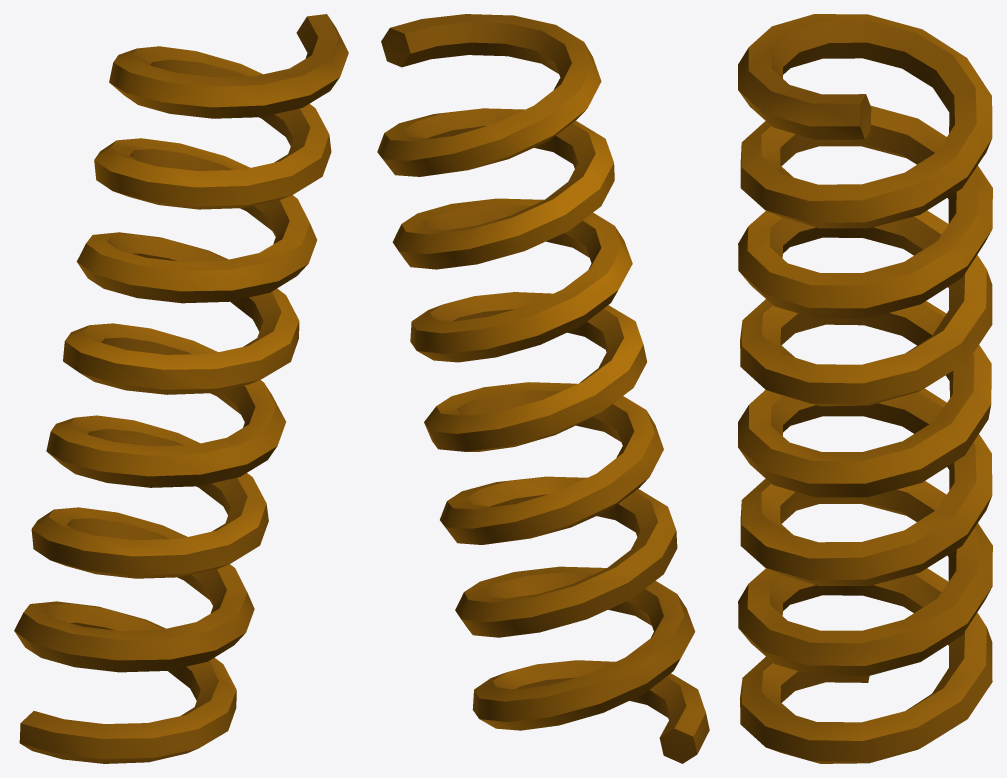
The model's file is bike_corsa600_spring.glb.
The picture shows the model from 3 angles, left to right: view 1: azimuth 30°, elevation 25°; view 2: azimuth 150°, elevation 25°; view 3: azimuth 270°, elevation 25°; orthographic projection. The views are drawn at different scales.
Visible parts, largest first — view 1: sbc_shk_spring; view 2: sbc_shk_spring; view 3: sbc_shk_spring.
Boxes of the visible parts, bbox=[...] form: sbc_shk_spring: bbox=[14, 14, 348, 763]; sbc_shk_spring: bbox=[377, 14, 709, 763]; sbc_shk_spring: bbox=[738, 14, 992, 763].
Bounding box in the file's own units: 0.1164 × 0.2337 × 0.0733.
